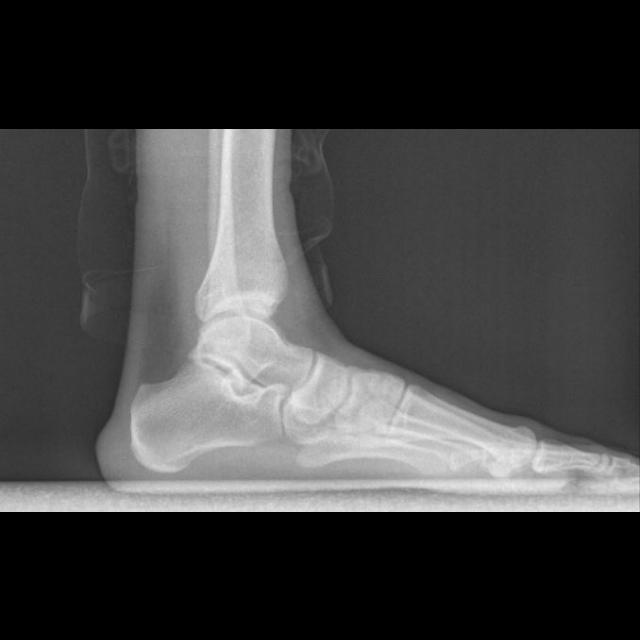a: (130, 356, 291, 475)
b: (292, 346, 350, 425)
c: (389, 382, 535, 479)
